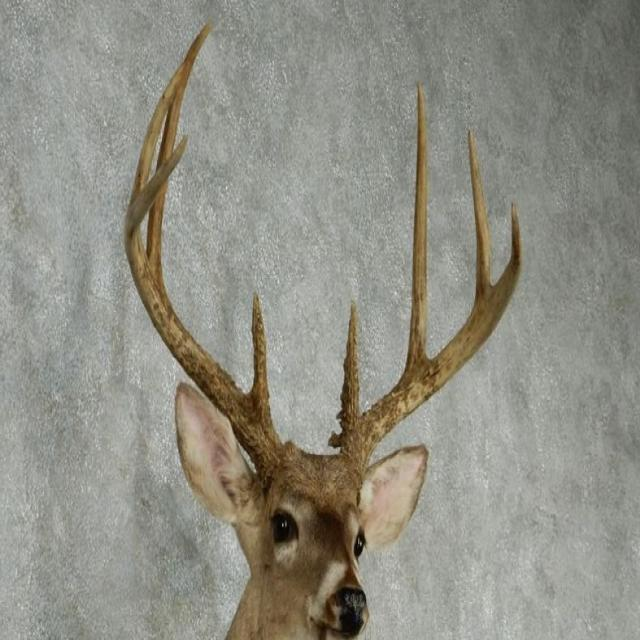L-F: (328, 202, 522, 478)
L-G1: (335, 297, 361, 431)
L-G2: (405, 80, 429, 371)
L-G3: (468, 128, 492, 305)
R-F: (124, 134, 297, 488)
R-G1: (247, 289, 272, 419)
